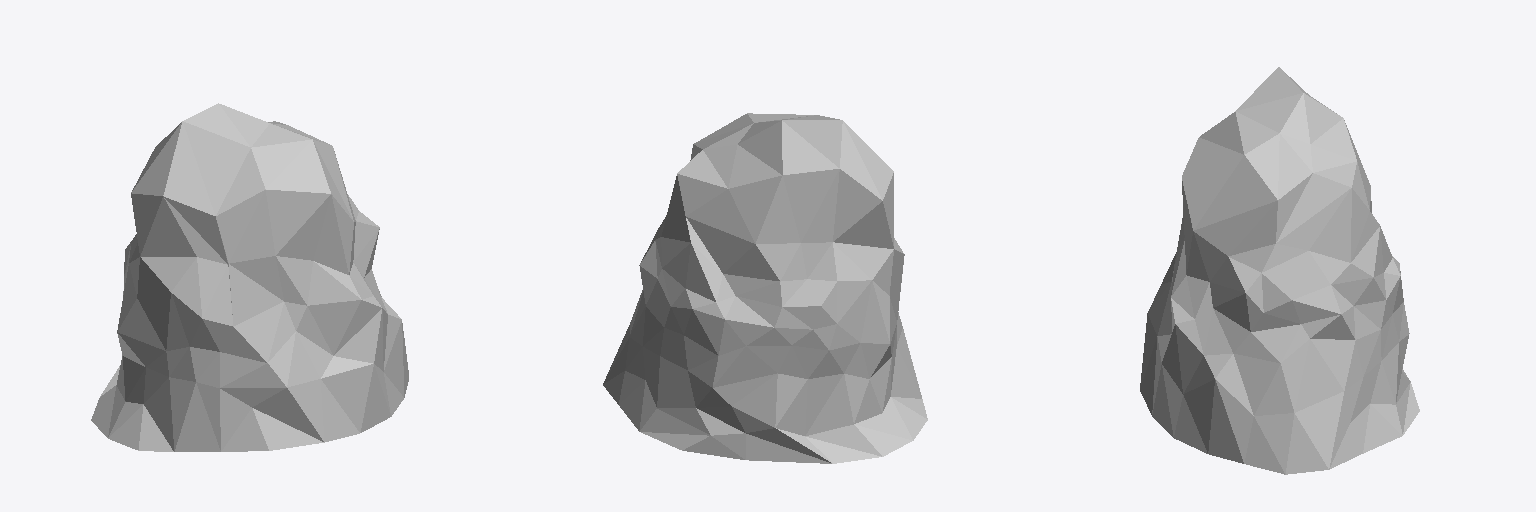
File: bigrock.obj
The picture shows the model from 3 angles: view 1: azimuth 30°, elevation 25°; view 2: azimuth 150°, elevation 25°; view 3: azimuth 270°, elevation 25°; orthographic projection.
Parts seen in each view (by area): view 1: Icosphere; view 2: Icosphere; view 3: Icosphere.
Boxes of the visible parts, <box> form: Icosphere: <box>91,103,408,451</box>; Icosphere: <box>603,113,927,463</box>; Icosphere: <box>1140,67,1419,474</box>.
Bounding box in the file's own units: 21.05 × 21.03 × 17.4.